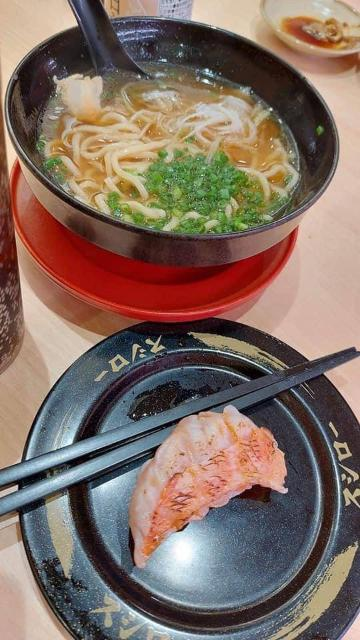janback: (29, 356, 360, 640)
janred: (0, 155, 304, 314)
